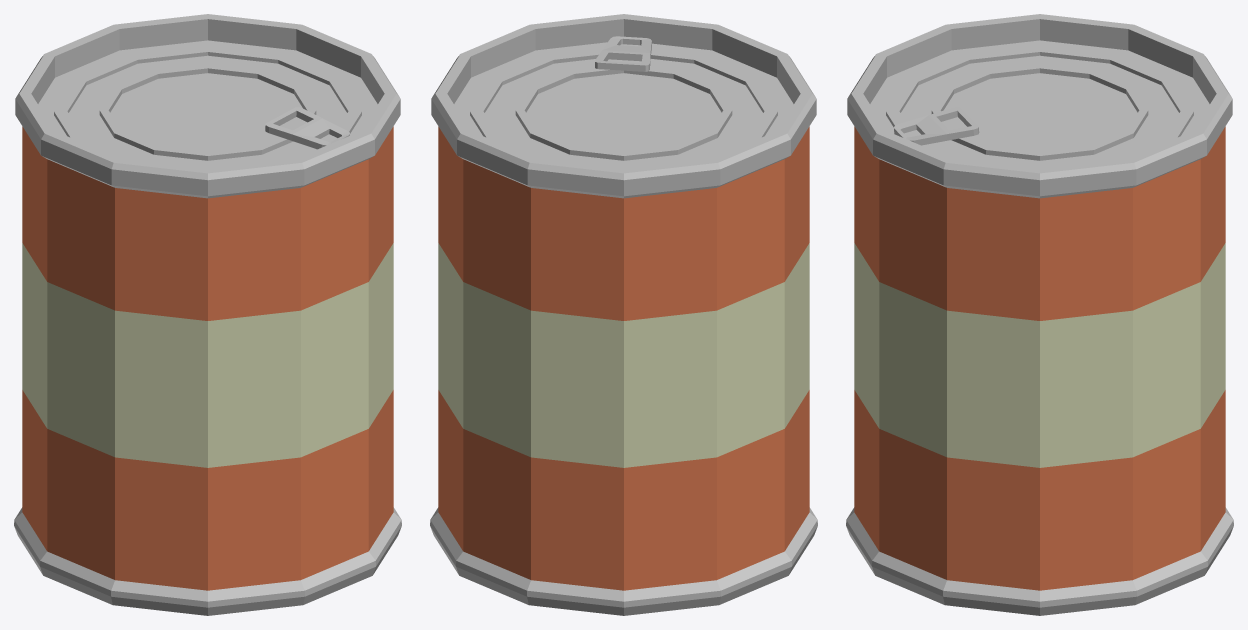
The model's file is canned food.fbx.
3 views of the same model, side by side, from view 1: azimuth 30°, elevation 25°; view 2: azimuth 150°, elevation 25°; view 3: azimuth 270°, elevation 25° (orthographic).
Parts seen in each view (by area): view 1: Canned_Food; view 2: Canned_Food; view 3: Canned_Food.
Part boxes in pixels (<box>): Canned_Food: <box>14,14,401,615</box>; Canned_Food: <box>430,14,817,615</box>; Canned_Food: <box>846,14,1233,615</box>.
Bounding box in the file's own units: 31.97 × 40.18 × 31.97.
